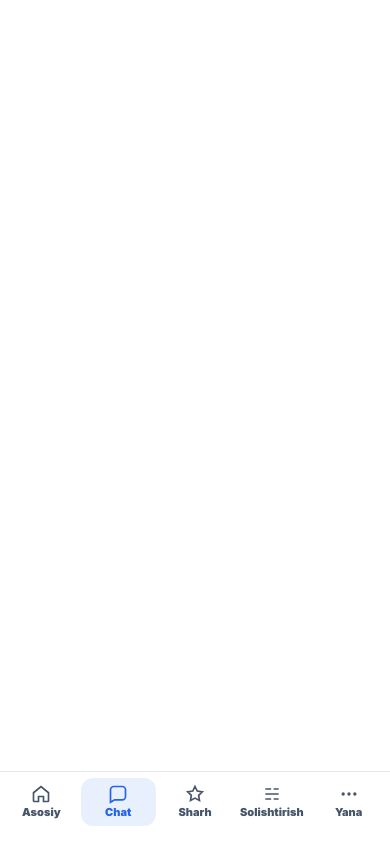
DashboardBottomNav › opens more sheet and navigates to overflow section
Click the button "Yana": (349, 802) x1=311 y1=778 x2=386 y2=826
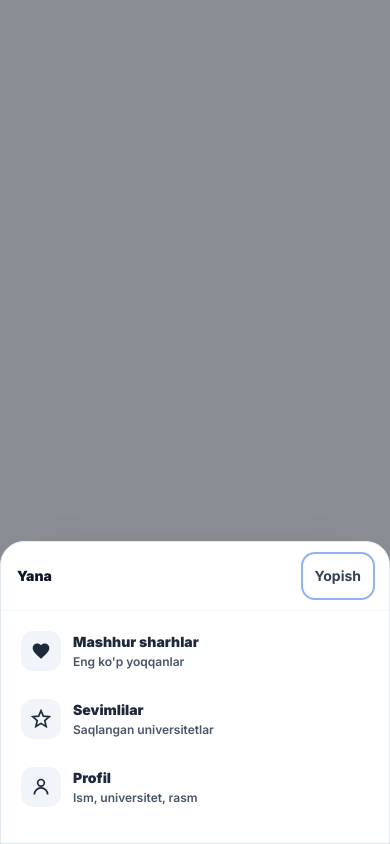
Expected: the dialog "Yana" is shown, x1=0 y1=541 x2=389 y2=843
Click the button "Profil Ism, universitet, rasm": (195, 787) x1=9 y1=755 x2=381 y2=819
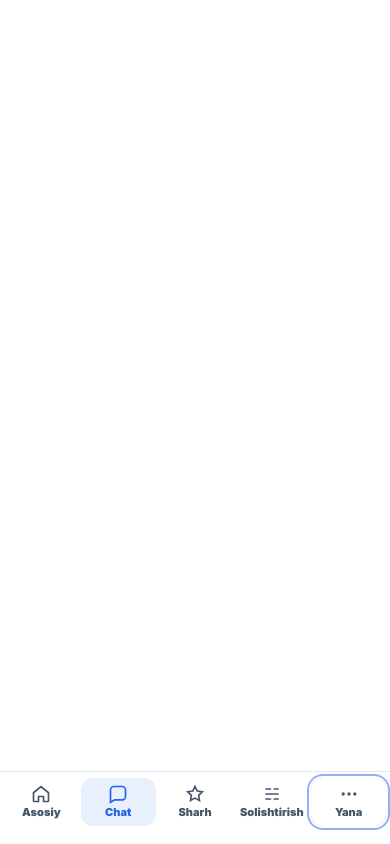
Expected: the element with test id "dashboard-bottom-nav-more" is gone
